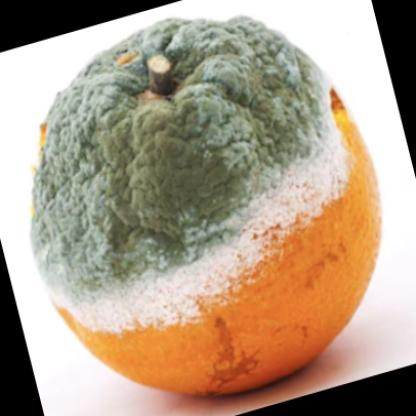rotten: (35, 21, 380, 395)
